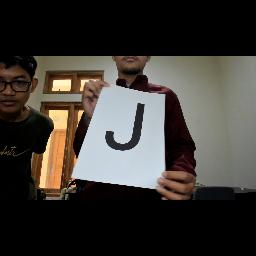j: (98, 95, 146, 163)
